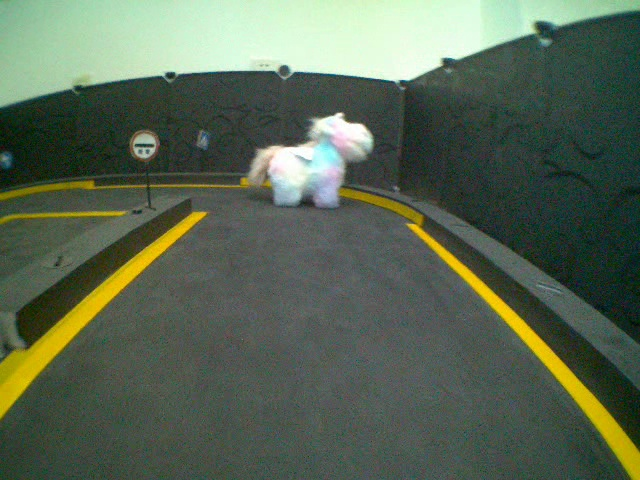unicorn: (248, 114, 375, 210)
